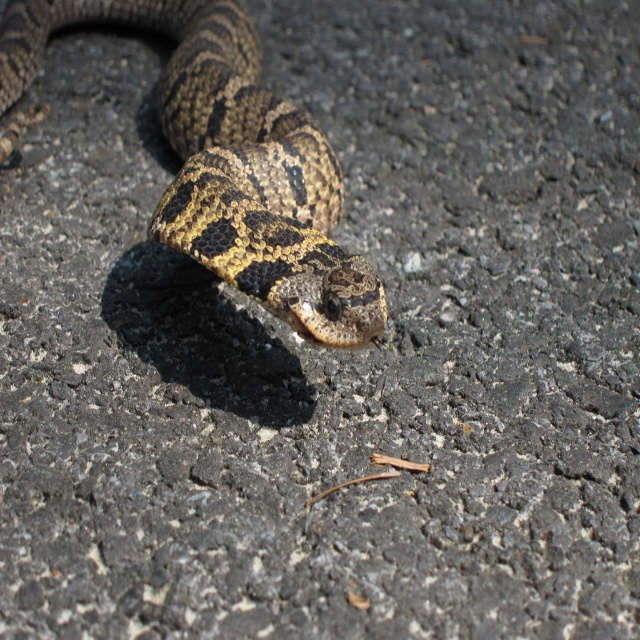Snake: (0, 0, 391, 351)
